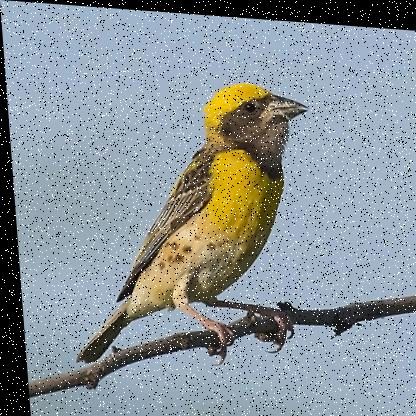Burung: (54, 68, 323, 377)
